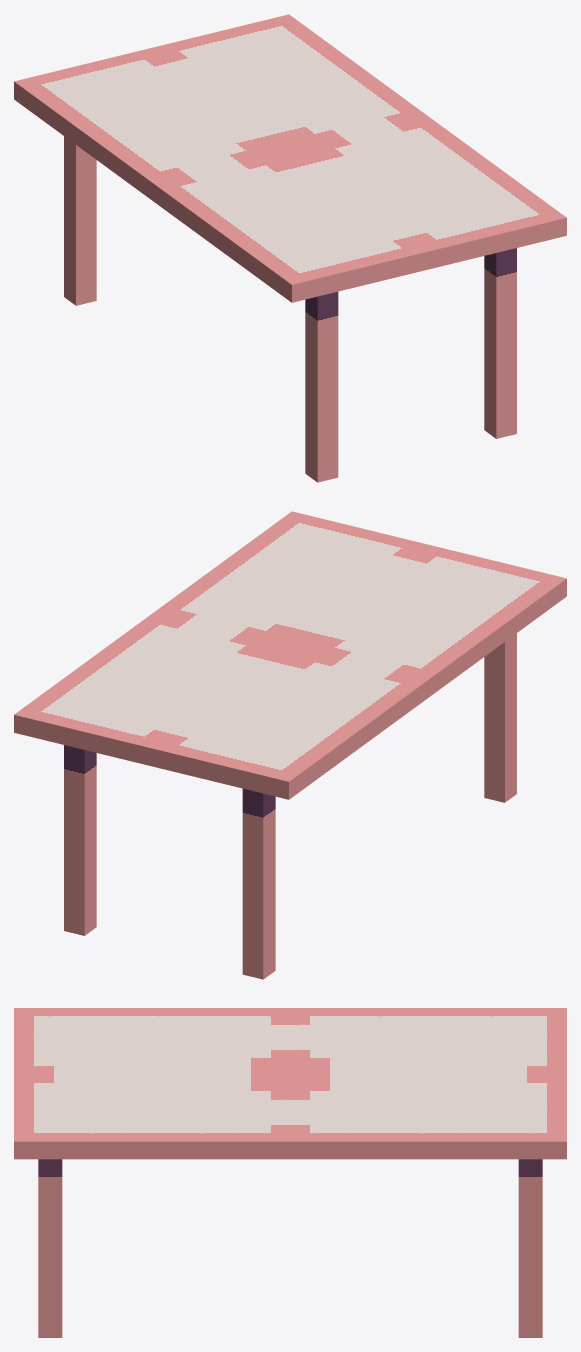
Rendered from Table.gltf.
3 renders of one model, top to bottom at view 1: azimuth 30°, elevation 25°; view 2: azimuth 150°, elevation 25°; view 3: azimuth 270°, elevation 25°, orthographic.
Visible parts, largest first — view 1: cuboid; view 2: cuboid; view 3: cuboid.
Part boxes in pixels (box(x1,y1,x2,y2)): cuboid: box(14, 14, 566, 482); cuboid: box(14, 511, 566, 979); cuboid: box(14, 1008, 566, 1337).
Bounding box in the file's own units: 1 × 0.75 × 1.75.
Materials: 1 (1 with a texture image).
